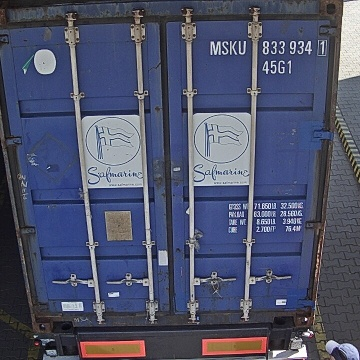serial_id: (210, 40, 326, 54)
